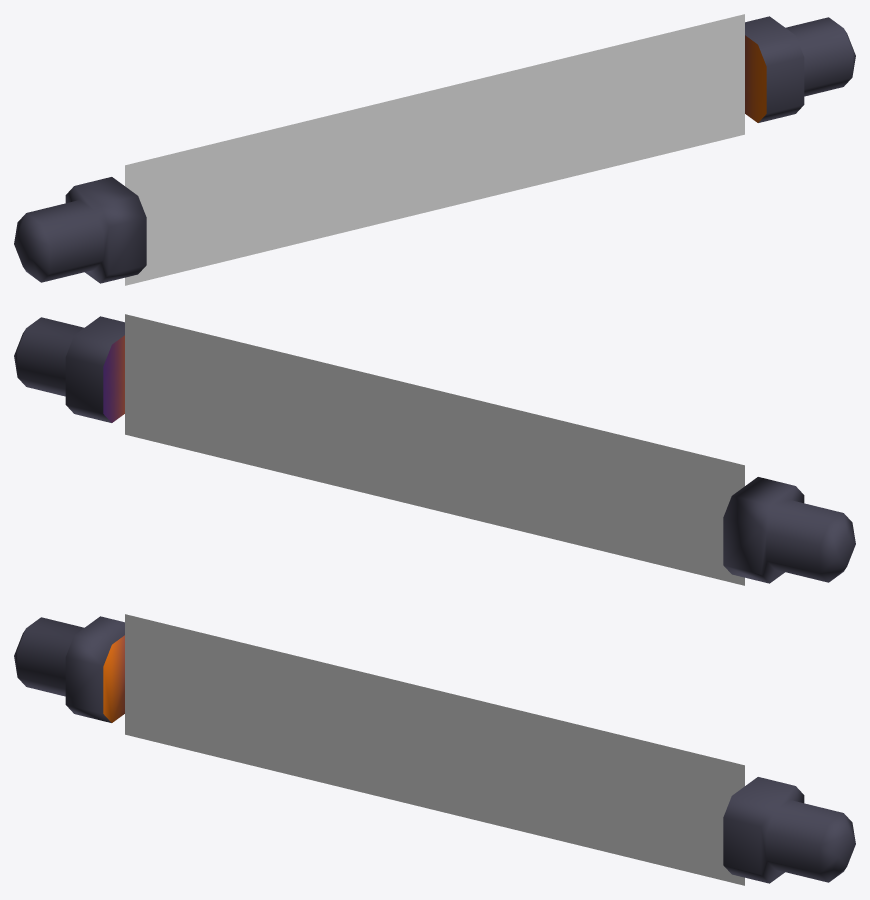
Rendered from O_Laser_01.fbx.
The picture shows the model from 3 angles, top to bottom: view 1: azimuth 30°, elevation 25°; view 2: azimuth 150°, elevation 25°; view 3: azimuth 330°, elevation 25°; orthographic projection.
Visible parts, largest first — view 1: Laser.001; view 2: Laser.001; view 3: Laser.001.
Part boxes in pixels (bbox=[...]): Laser.001: bbox=[14, 14, 855, 285]; Laser.001: bbox=[14, 314, 855, 585]; Laser.001: bbox=[14, 614, 855, 885].
Size of the model in its own units: 2.45 by 0.3428 by 0.2236.
